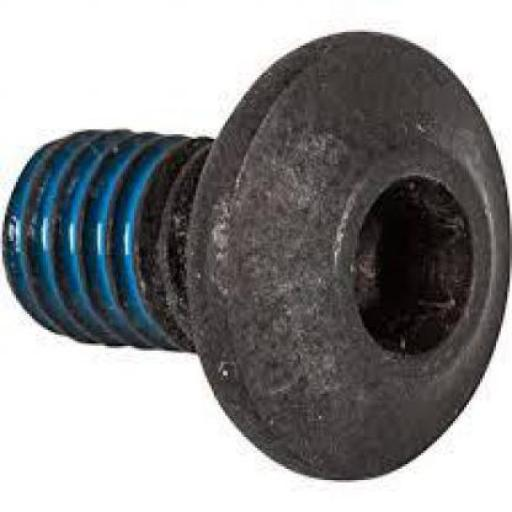bolt: (2, 30, 510, 482)
